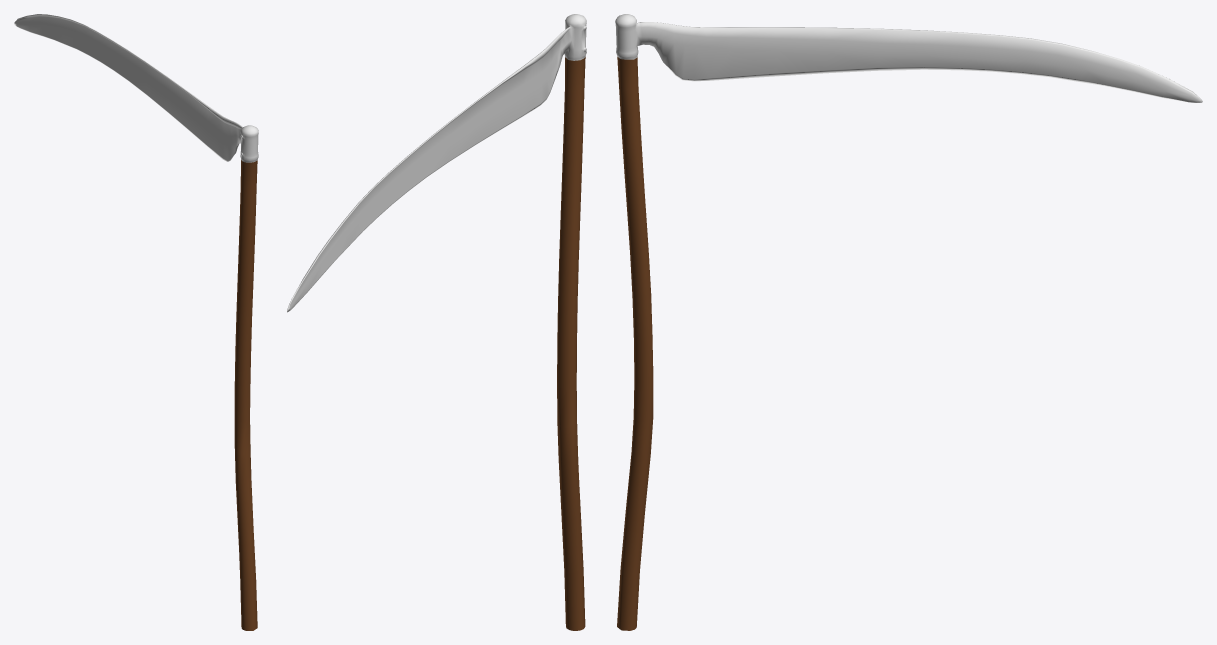
File: Edited Scythe.fbx
3 views of the same model, side by side, from view 1: azimuth 30°, elevation 25°; view 2: azimuth 150°, elevation 25°; view 3: azimuth 270°, elevation 25° (orthographic). The views are drawn at different scales.
Visible parts, largest first — view 1: Scythe; view 2: Scythe; view 3: Scythe.
Part boxes in pixels (box(x1,y1,x2,y2)): Scythe: box(14, 14, 258, 630); Scythe: box(287, 14, 586, 630); Scythe: box(615, 14, 1202, 630).
Bounding box in the file's own units: 7.61 × 220 × 191.
